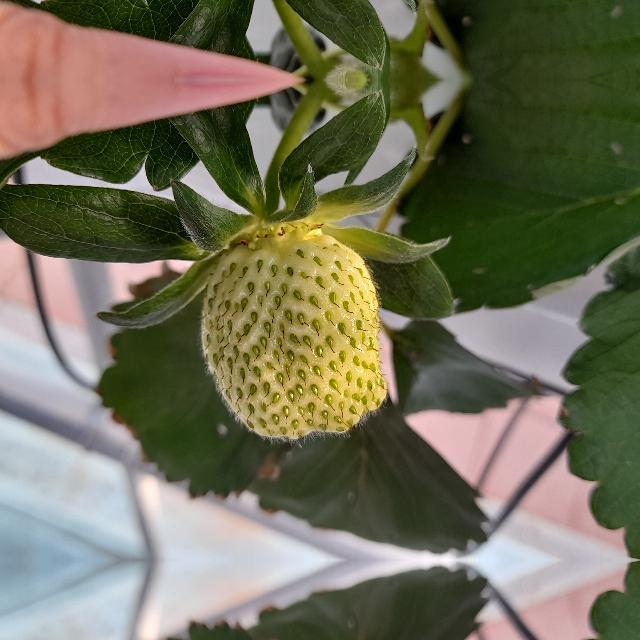Health_25: (201, 222, 387, 438)
